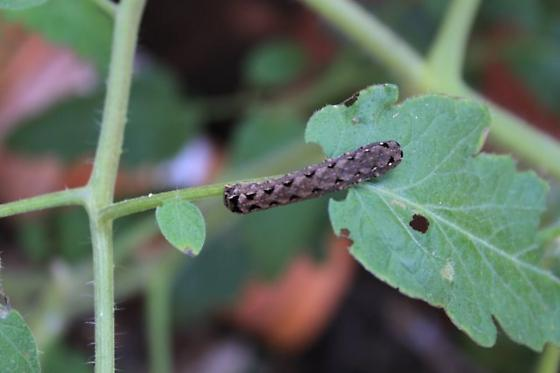Armyworm: (213, 120, 415, 225)
